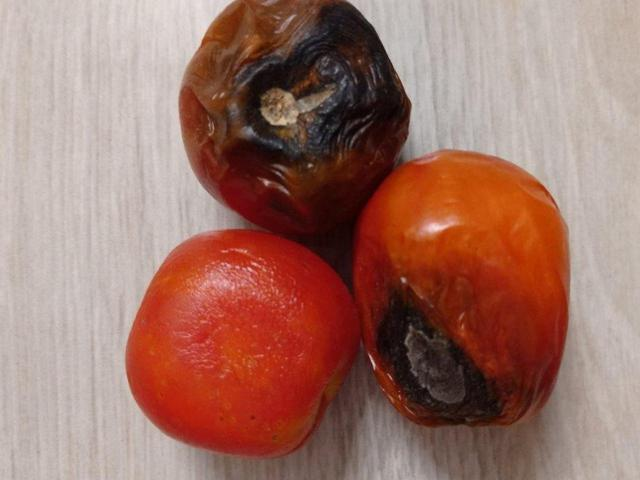defect: (354, 144, 577, 428), (121, 219, 347, 461), (171, 2, 386, 204)
